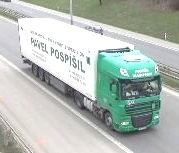truck: (14, 14, 164, 137)
